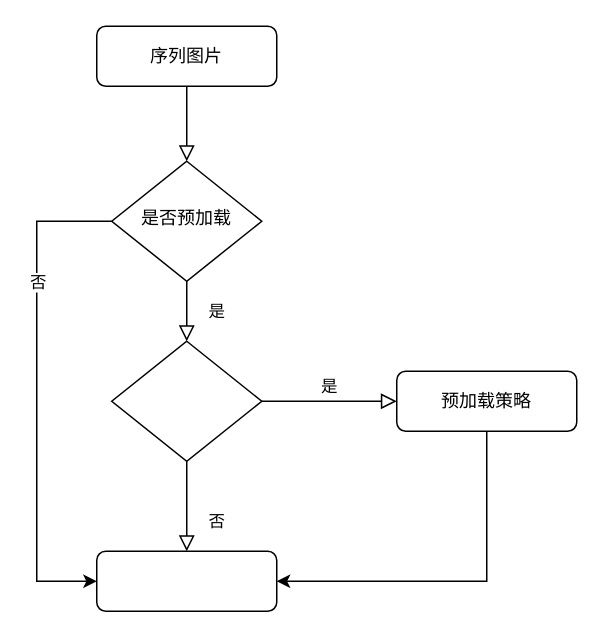
Image size: 603x638. Some labels were removed from this diagram. The centre of each missing label's shape, as x and y in pixels:
图片切换显示: the point at 186,580
是否限定预加载数量: the point at 186,400
